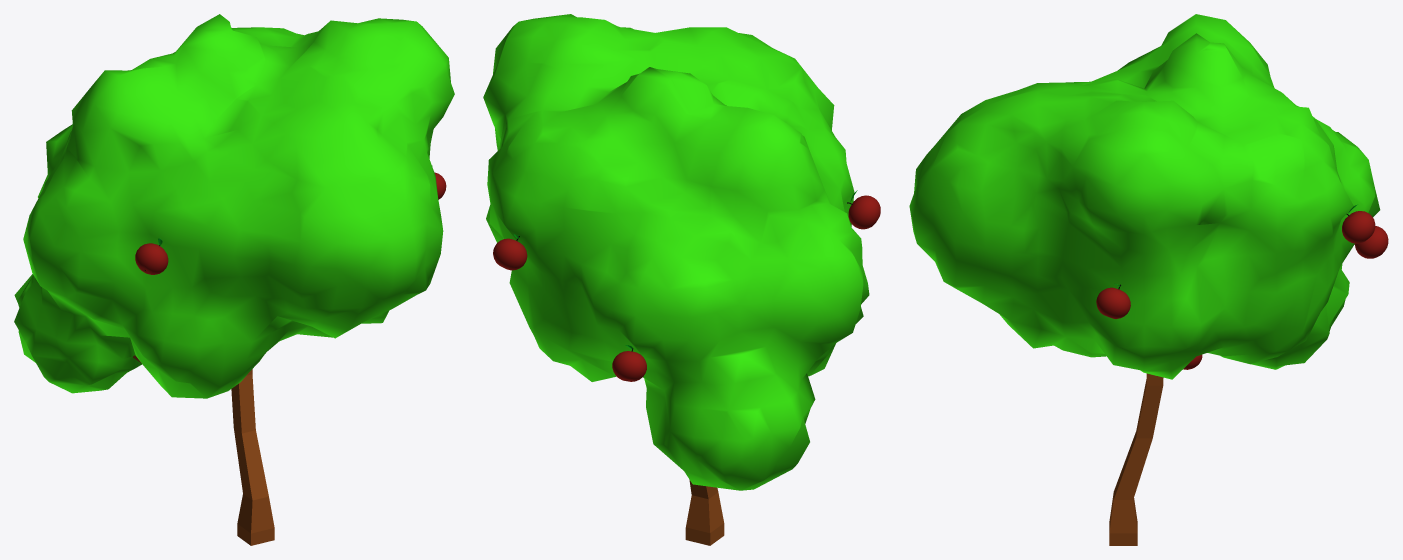
The model's file is SM_AppleTree_001_LOD1.fbx.
3 views of the same model, side by side, from view 1: azimuth 30°, elevation 25°; view 2: azimuth 150°, elevation 25°; view 3: azimuth 270°, elevation 25° (orthographic). The views are drawn at different scales.
Visible parts, largest first — view 1: AppleTree; view 2: AppleTree; view 3: AppleTree.
Part boxes in pixels (box(x1,y1,x2,y2)): AppleTree: box(14, 14, 454, 545); AppleTree: box(483, 14, 880, 545); AppleTree: box(909, 14, 1388, 545).
Bounding box in the file's own units: 288 × 345 × 301.
